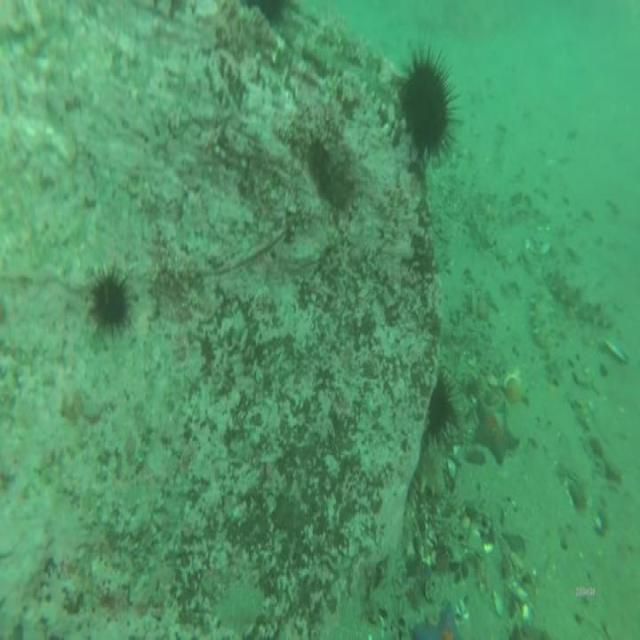echinus: (405, 65, 447, 147), (93, 276, 128, 326), (430, 380, 452, 440)
holothurian: (576, 402, 623, 484), (551, 268, 611, 326), (530, 286, 562, 379)
starfish: (478, 402, 520, 466)
